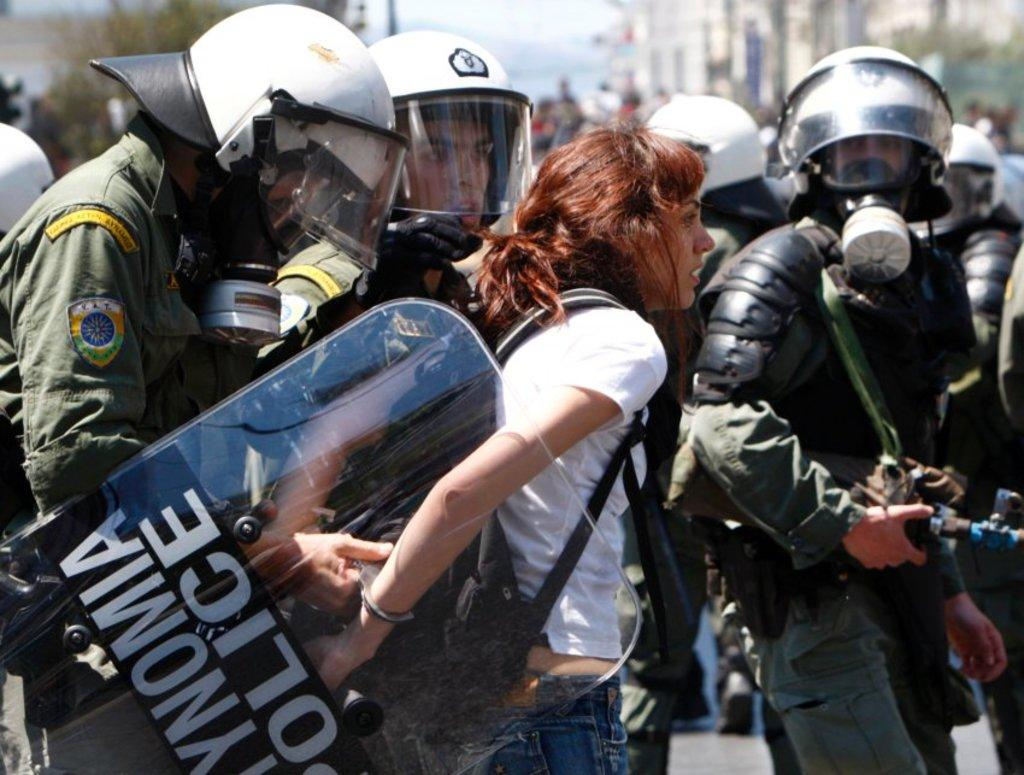helmet: (184, 4, 411, 272), (320, 30, 535, 216), (777, 46, 955, 209), (630, 95, 765, 219), (899, 123, 1003, 217)
nohelmet: (519, 127, 717, 321)
